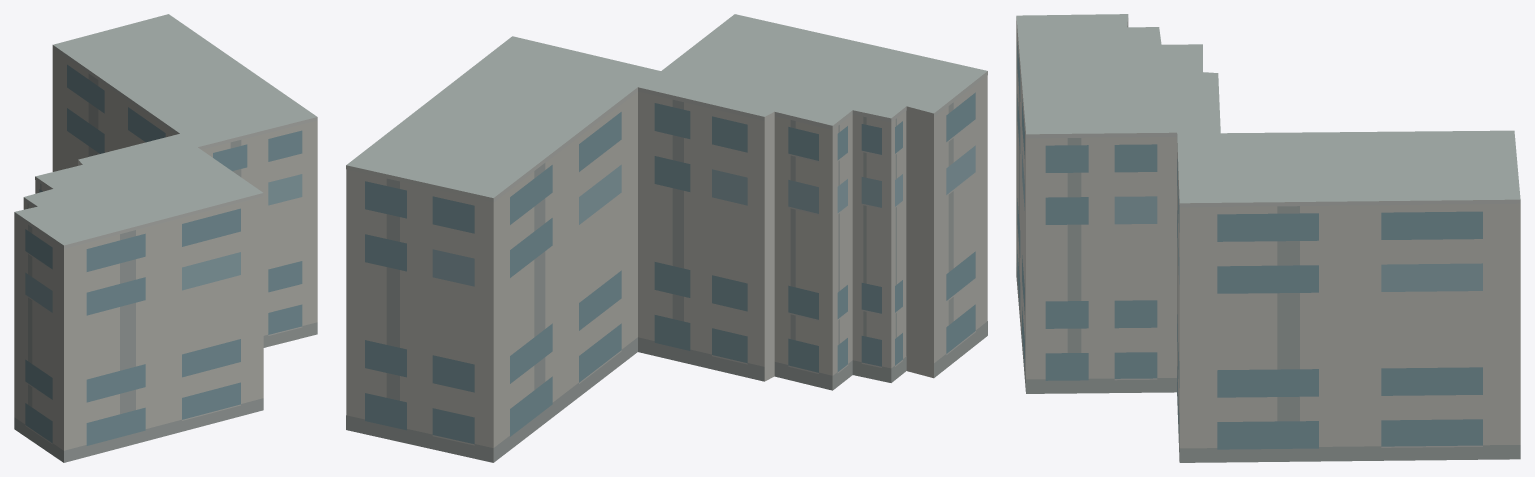
Rendered from survey-upis-32761425.glb.
3 renders of one model, left to right at view 1: azimuth 30°, elevation 25°; view 2: azimuth 150°, elevation 25°; view 3: azimuth 270°, elevation 25°, orthographic. The views are drawn at different scales.
Visible parts, largest first — view 1: survey-upis-32761425.tmp; view 2: survey-upis-32761425.tmp; view 3: survey-upis-32761425.tmp.
Part boxes in pixels (x1,y1,x2,y2): survey-upis-32761425.tmp: (14, 14, 317, 462); survey-upis-32761425.tmp: (346, 14, 987, 462); survey-upis-32761425.tmp: (1016, 14, 1520, 462).
Size of the model in its own units: 23.84 by 15.25 by 26.85.
